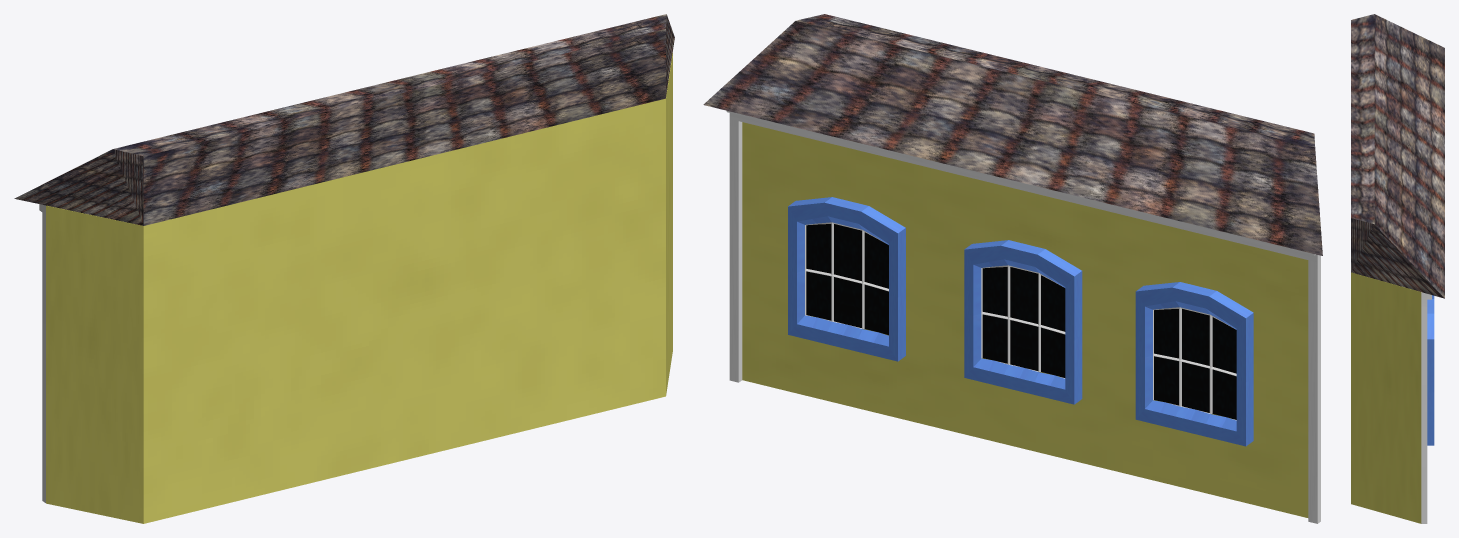
File: casaflo1andartelhado.gltf
3 views of the same model, side by side, from view 1: azimuth 30°, elevation 25°; view 2: azimuth 150°, elevation 25°; view 3: azimuth 270°, elevation 25° (orthographic). The views are drawn at different scales.
Visible parts, largest first — view 1: cuboid (×2); view 2: cuboid (×5); view 3: cuboid (×3).
Boxes of the visible parts, x1,y1,x2,y2 form: cuboid (×2): (14, 14, 674, 523); cuboid (×5): (703, 14, 1322, 523); cuboid (×3): (1351, 14, 1444, 523).
Bounding box in the file's own units: 3.16 × 1.68 × 0.5.
2 materials, 2 textured.
